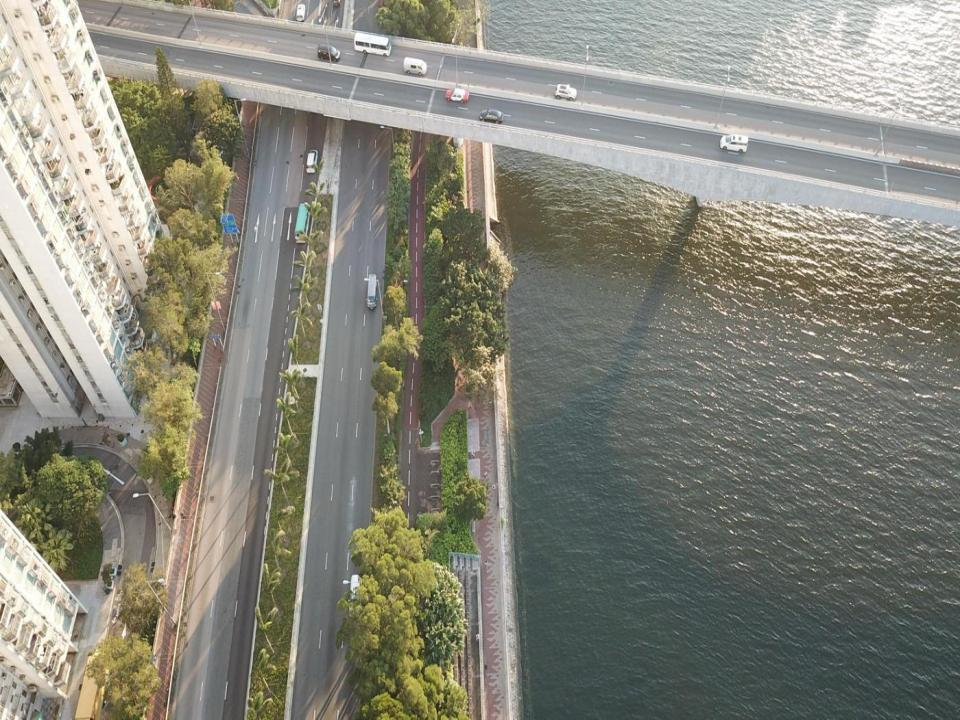bus: (294, 201, 311, 244)
car: (554, 83, 576, 101), (480, 109, 503, 125), (445, 88, 469, 103), (317, 45, 340, 60), (415, 513, 423, 537), (296, 5, 305, 20)
truck: (354, 32, 391, 55)
van: (348, 574, 362, 619), (719, 134, 748, 153), (403, 56, 428, 76), (368, 273, 377, 310), (306, 150, 318, 174)
